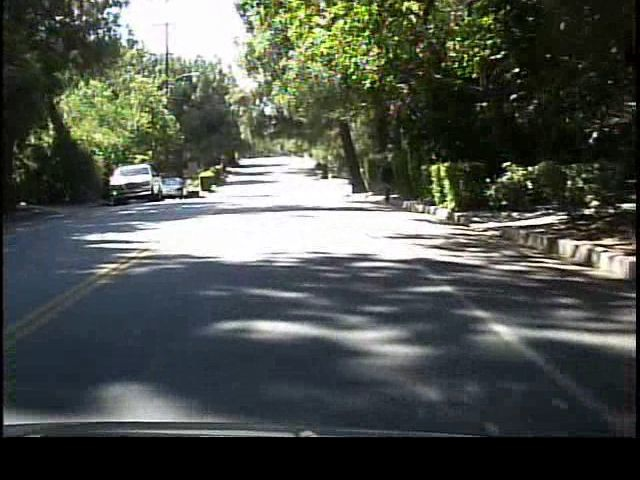person: (380, 155, 399, 208)
